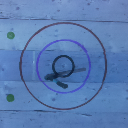Axe Tip: (50, 75, 60, 77)
